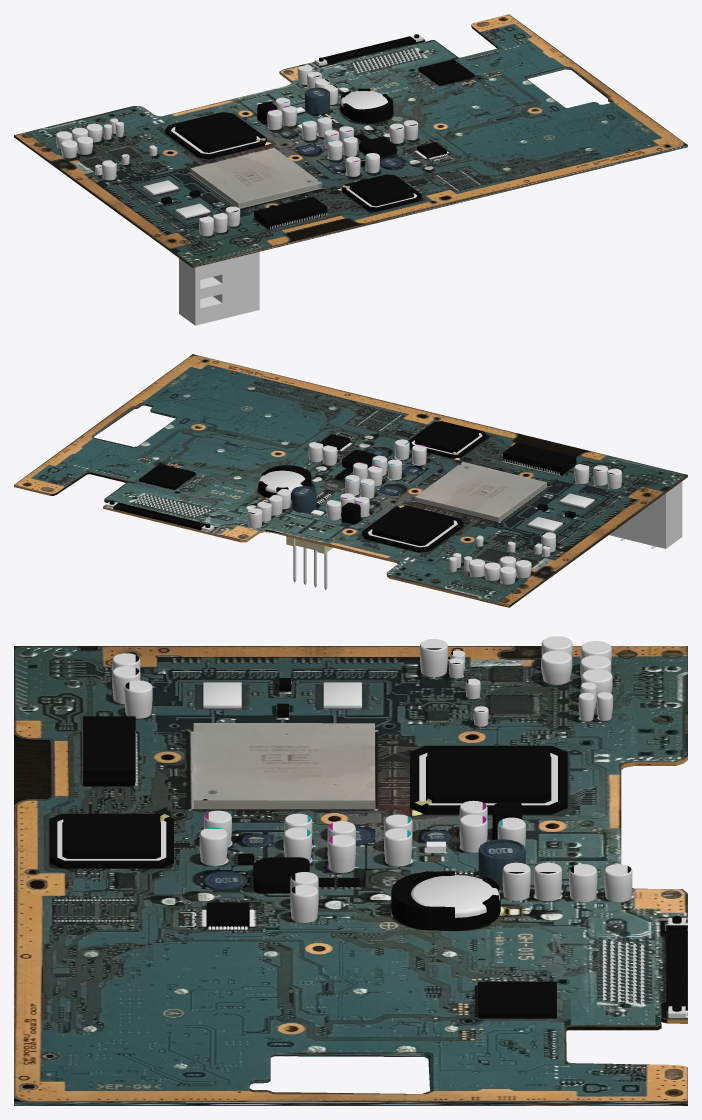
File: td-board.glb
The picture shows the model from 3 angles, top to bottom: view 1: azimuth 30°, elevation 25°; view 2: azimuth 150°, elevation 25°; view 3: azimuth 270°, elevation 25°; orthographic projection. The views are drawn at different scales.
Parts seen in each view (by area): view 1: body; view 2: body; view 3: body.
Part boxes in pixels (left/top/right/bottom): body: left=14, top=14, right=687, bottom=325; body: left=14, top=354, right=687, bottom=607; body: left=14, top=636, right=687, bottom=1105.
Size of the model in its own units: 0.24 by 0.0393 by 0.15.
Materials: 9 (2 with a texture image).
